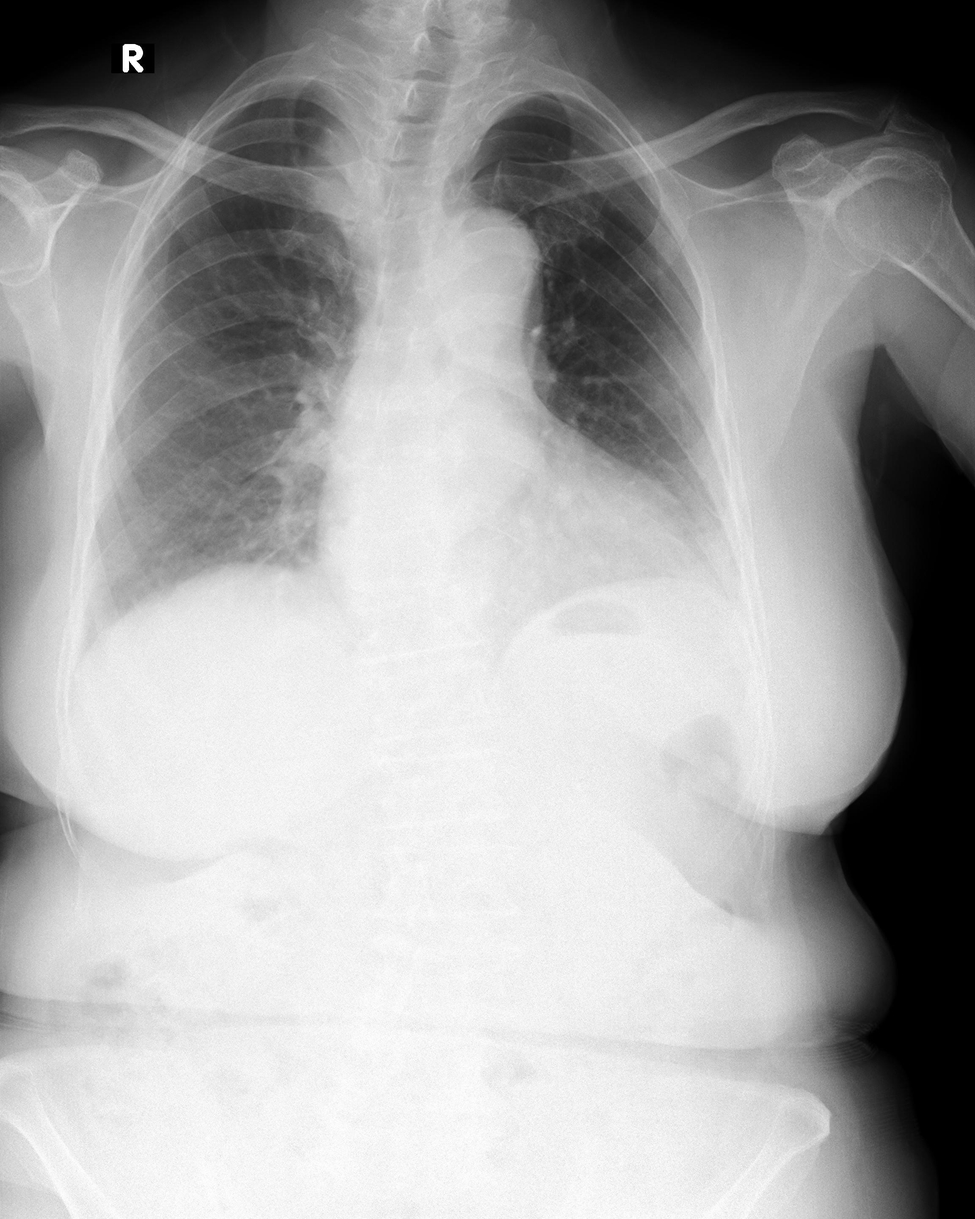Aortic enlargement: (425, 204, 543, 337)
Cardiomegaly: (311, 490, 711, 602)
Pleural thickening: (470, 90, 569, 148)
Pulmonary fibrosis: (249, 523, 309, 577)
